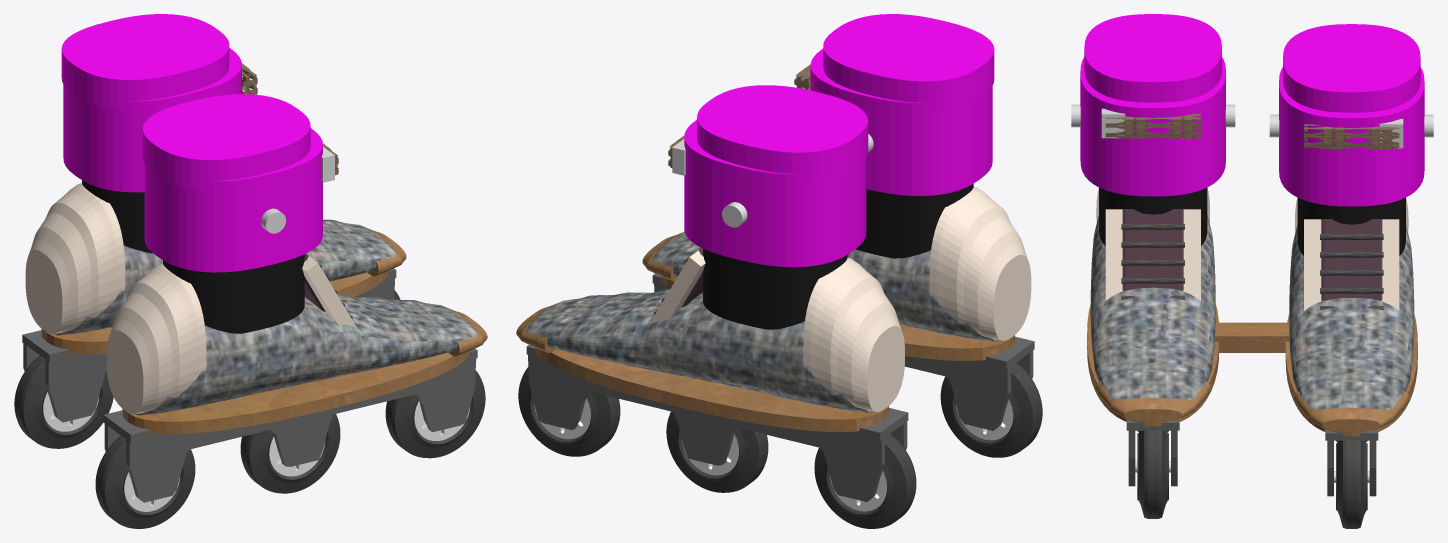
The model's file is Sports_Roller_scates__0000.glb.
The picture shows the model from 3 angles, left to right: view 1: azimuth 30°, elevation 25°; view 2: azimuth 150°, elevation 25°; view 3: azimuth 270°, elevation 25°; orthographic projection. The views are drawn at different scales.
Visible parts, largest first — view 1: right_boot::shell, right_cuff::collar, right_cuff::upper_collar, left_cuff::upper_collar, right_boot::heel_panel, left_boot::heel_panel, right_frame::rail_lateral, right_boot::sole, left_cuff::collar, right_boot::shaft, left_boot::shell, left_frame::rail_medial (+15 smaller); view 2: left_boot::shell, left_cuff::collar, left_cuff::upper_collar, right_cuff::upper_collar, right_cuff::collar, right_boot::heel_panel, left_boot::heel_panel, left_frame::rail_lateral, left_boot::sole, left_boot::shaft, right_boot::shell, right_boot::shaft (+15 smaller); view 3: right_boot::shell, left_boot::shell, left_cuff::collar, right_cuff::collar, right_cuff::upper_collar, left_cuff::upper_collar, right_boot::tongue, left_boot::tongue, left_wheel_0::tire, right_wheel_0::tire, left_boot::shaft, right_boot::shaft (+16 smaller).
Boxes of the visible parts, x1,y1,x2,y2 form: right_boot::shell: [135, 294, 478, 415]; right_cuff::collar: [144, 128, 322, 272]; right_cuff::upper_collar: [142, 94, 310, 189]; left_cuff::upper_collar: [61, 14, 229, 109]; right_boot::heel_panel: [106, 263, 206, 414]; left_boot::heel_panel: [25, 183, 125, 334]; right_frame::rail_lateral: [126, 358, 476, 502]; right_boot::sole: [122, 351, 469, 433]; left_cuff::collar: [63, 48, 241, 192]; right_boot::shaft: [163, 254, 304, 333]; left_boot::shell: [54, 219, 396, 335]; left_frame::rail_medial: [45, 278, 395, 422]; left_boot::shell: [525, 289, 875, 412]; left_cuff::collar: [684, 119, 866, 267]; left_cuff::upper_collar: [697, 85, 868, 182]; right_cuff::upper_collar: [823, 14, 994, 111]; right_cuff::collar: [810, 48, 992, 195]; right_boot::heel_panel: [929, 186, 1031, 340]; left_boot::heel_panel: [803, 257, 904, 411]; left_frame::rail_lateral: [528, 355, 884, 501]; left_boot::sole: [535, 347, 888, 432]; left_boot::shaft: [703, 248, 847, 329]; right_boot::shell: [652, 232, 1001, 341]; right_boot::shaft: [856, 184, 973, 258]; right_boot::shell: [1090, 215, 1215, 399]; left_boot::shell: [1289, 225, 1414, 410]; left_cuff::collar: [1279, 67, 1424, 206]; right_cuff::collar: [1080, 57, 1225, 196]; right_cuff::upper_collar: [1084, 14, 1221, 102]; left_cuff::upper_collar: [1283, 24, 1420, 112]; right_boot::tongue: [1122, 209, 1183, 290]; left_boot::tongue: [1321, 219, 1382, 300]; left_wheel_0::tire: [1336, 440, 1367, 528]; right_wheel_0::tire: [1137, 430, 1168, 518]; left_boot::shaft: [1297, 197, 1405, 255]; right_boot::shaft: [1099, 187, 1207, 245].
Size of the model in its own units: 0.3421 by 0.306 by 0.274.
13 materials, 7 textured.
